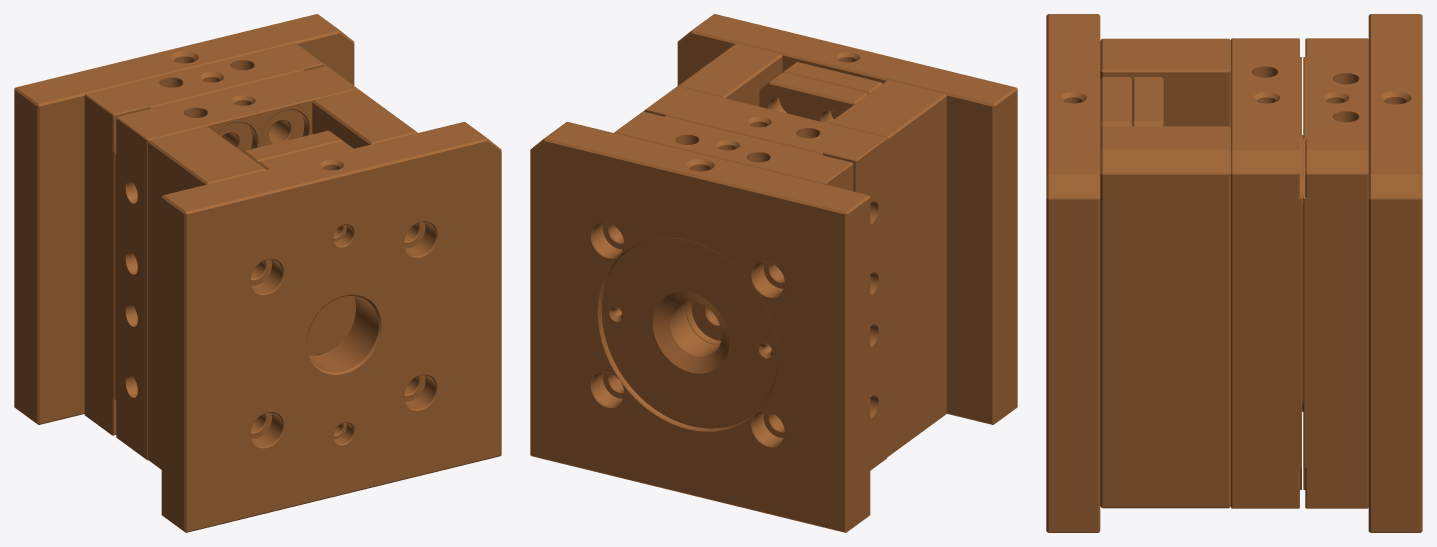
Rendered from button.fbx.
The picture shows the model from 3 angles, left to right: view 1: azimuth 30°, elevation 25°; view 2: azimuth 150°, elevation 25°; view 3: azimuth 270°, elevation 25°; orthographic projection. The views are drawn at different scales.
Visible parts, largest first — view 1: \ (×8); view 2: \ (×8); view 3: \ (×8).
Boxes of the visible parts, left/top/right/bottom form: \ (×8): left=14, top=14, right=501, bottom=532; \ (×8): left=530, top=14, right=1017, bottom=532; \ (×8): left=1046, top=14, right=1422, bottom=532.
Size of the model in its own units: 178 by 167 by 172.
